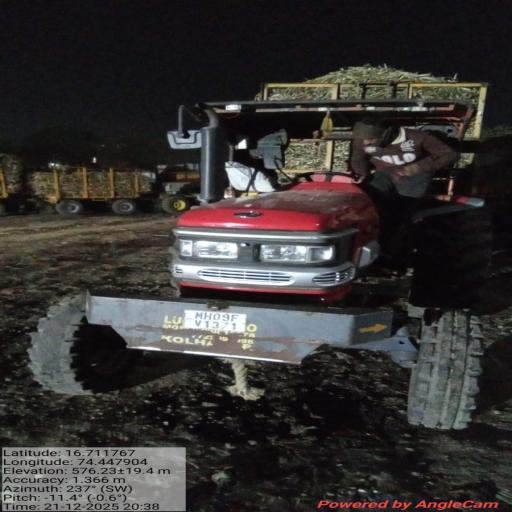number_plate: (169, 306, 272, 341)
